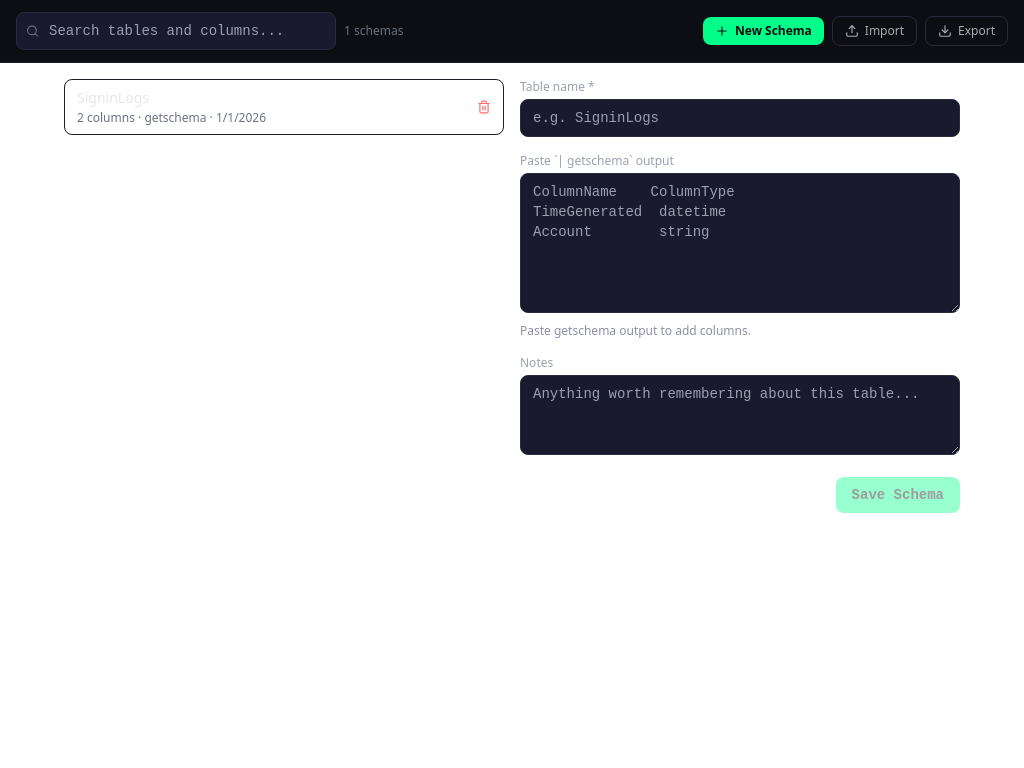
deleting › reports a failed delete as a durable banner, not a toast, and the row survives
The image size is (1024, 768).
Expected: the text "SigninLogs" is shown, [77,88,149,107]
Click the button named "Delete schema SigninLogs" at (484,107), box [469,92,499,122]
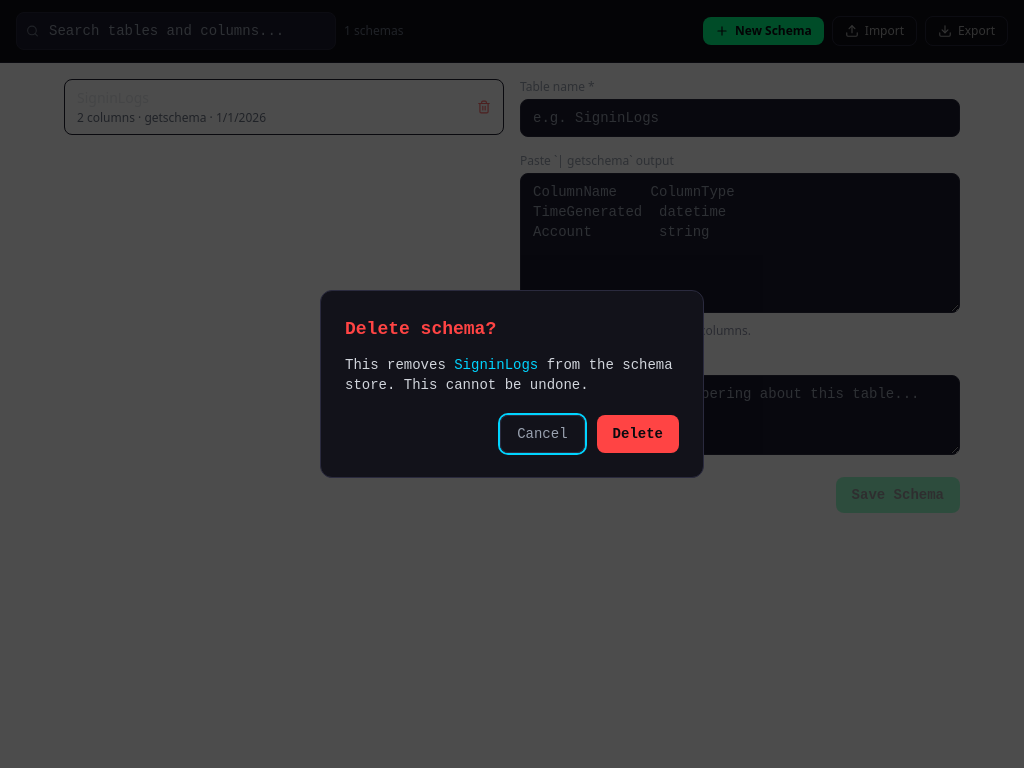
Click the button "Delete" at (638,434), box [597,415,679,453]
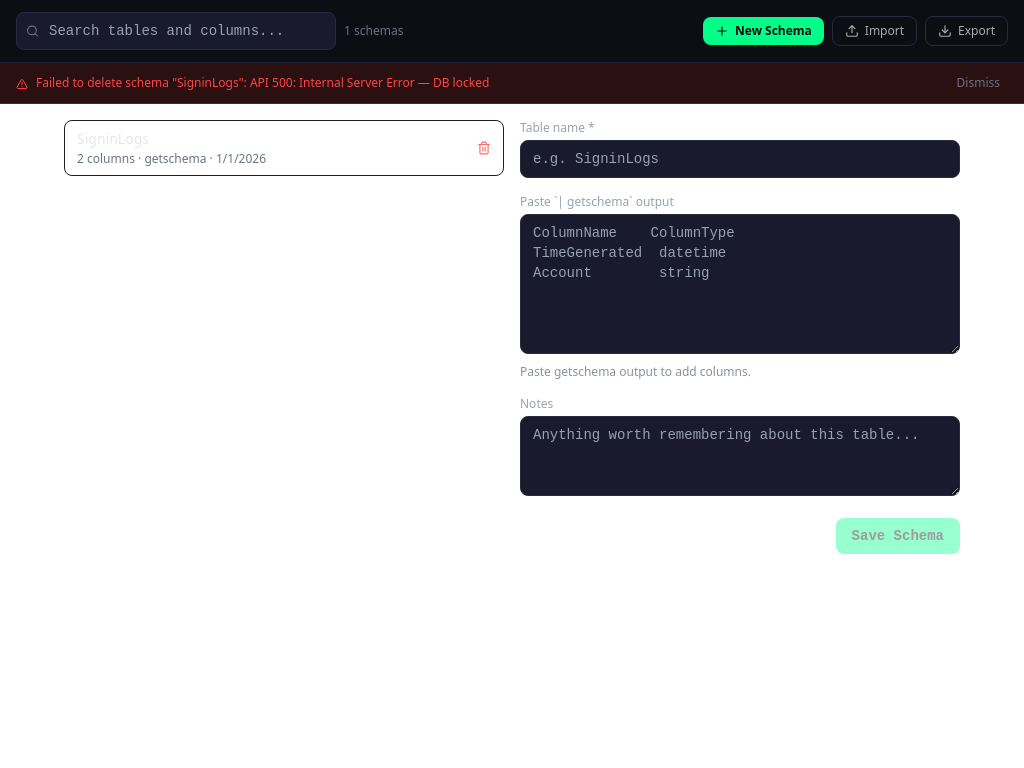
Expected: the text "SigninLogs" is shown, [77,129,149,148]
Result: the text "DB locked" is shown at [36,74,489,91]
Click the button "Dismiss" at (978,83), box [949,71,1008,95]
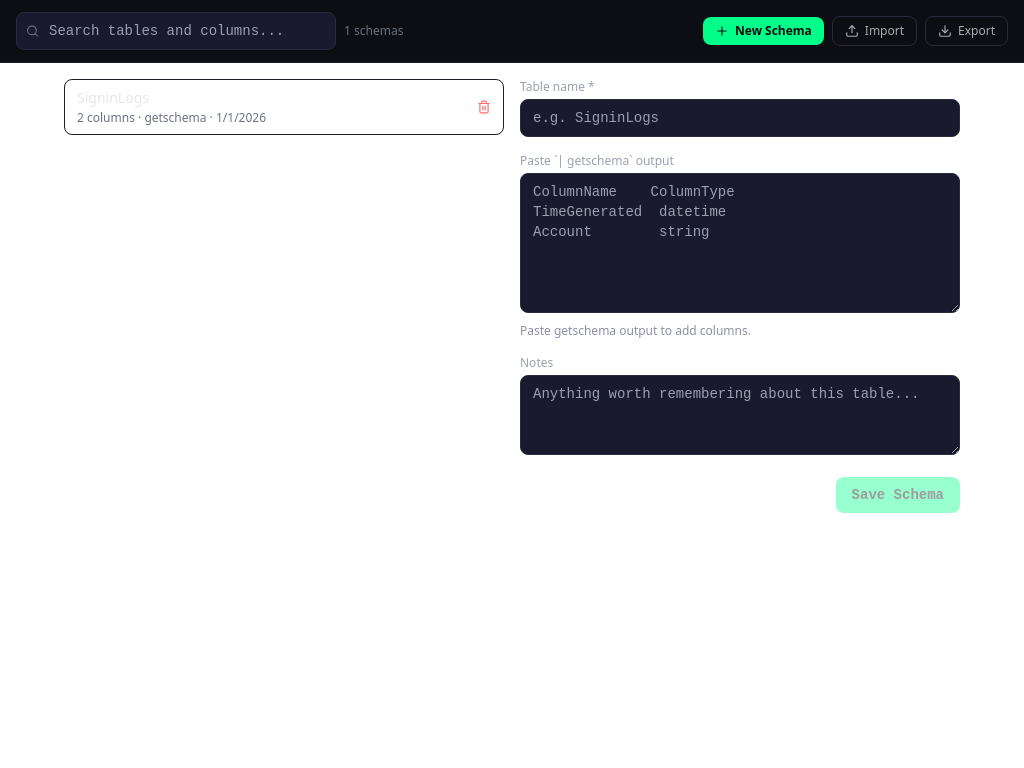
Result: the text "DB locked" is gone
